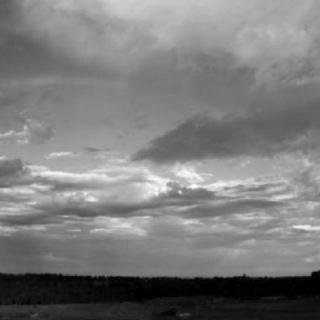Altocumulus: (0, 1, 320, 282)
